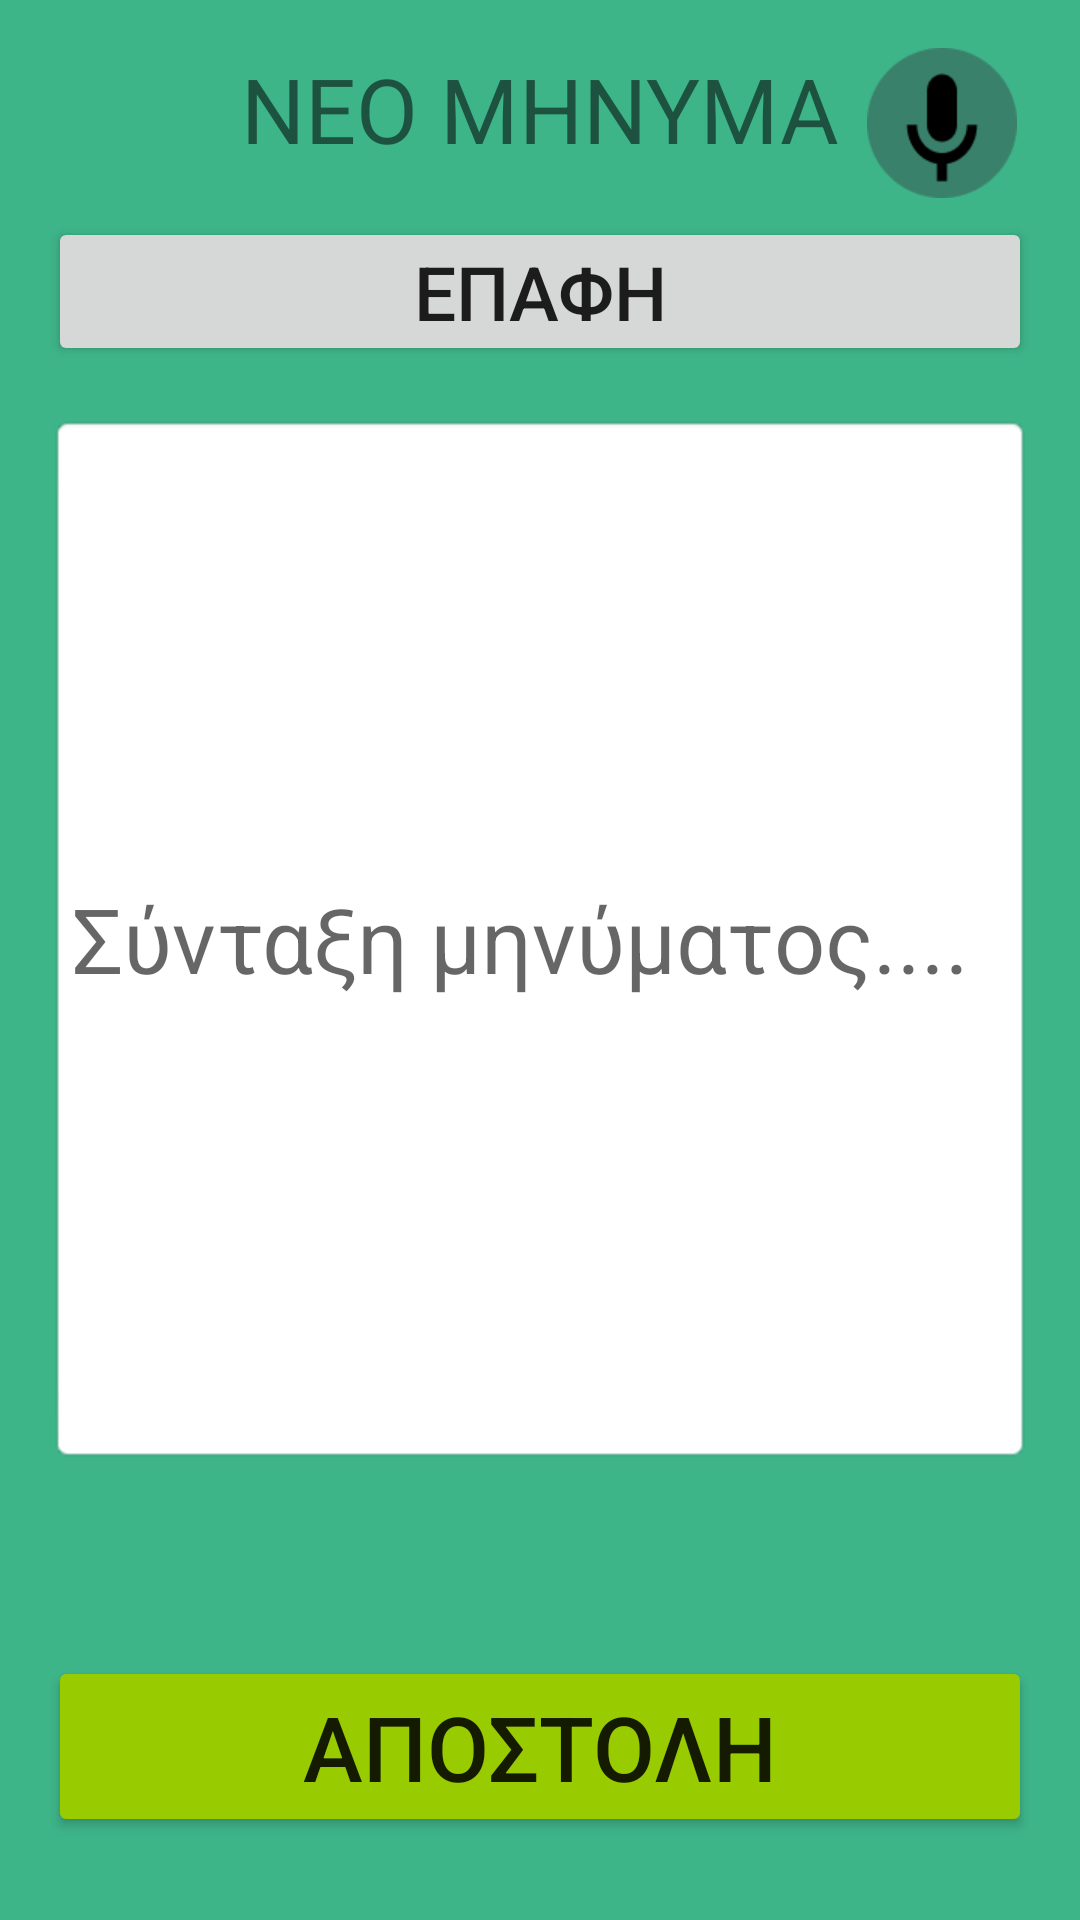

Point at icon controls on the screen. Image size 1080*1920, points as (x=x, y=y).
Μικρόφωνο: (x=942, y=123)
